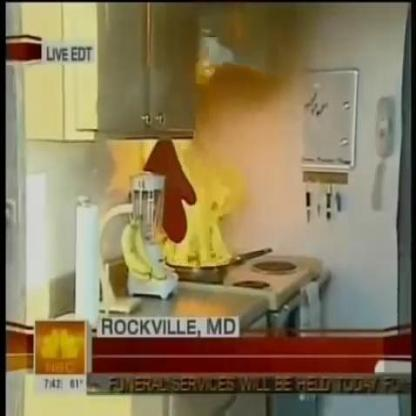fire: (151, 44, 236, 269)
